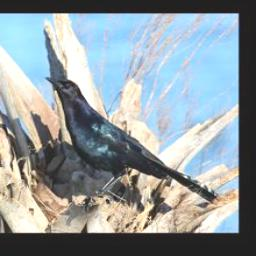Crow: (44, 76, 218, 212)
